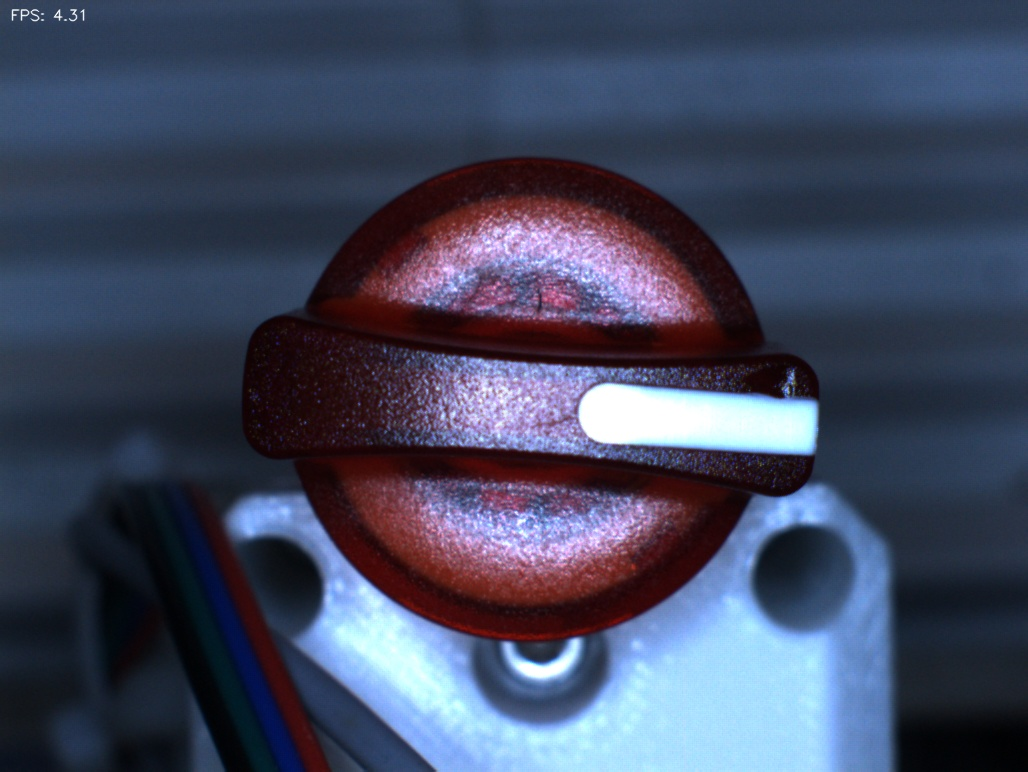Choc: (730, 342, 804, 416)
